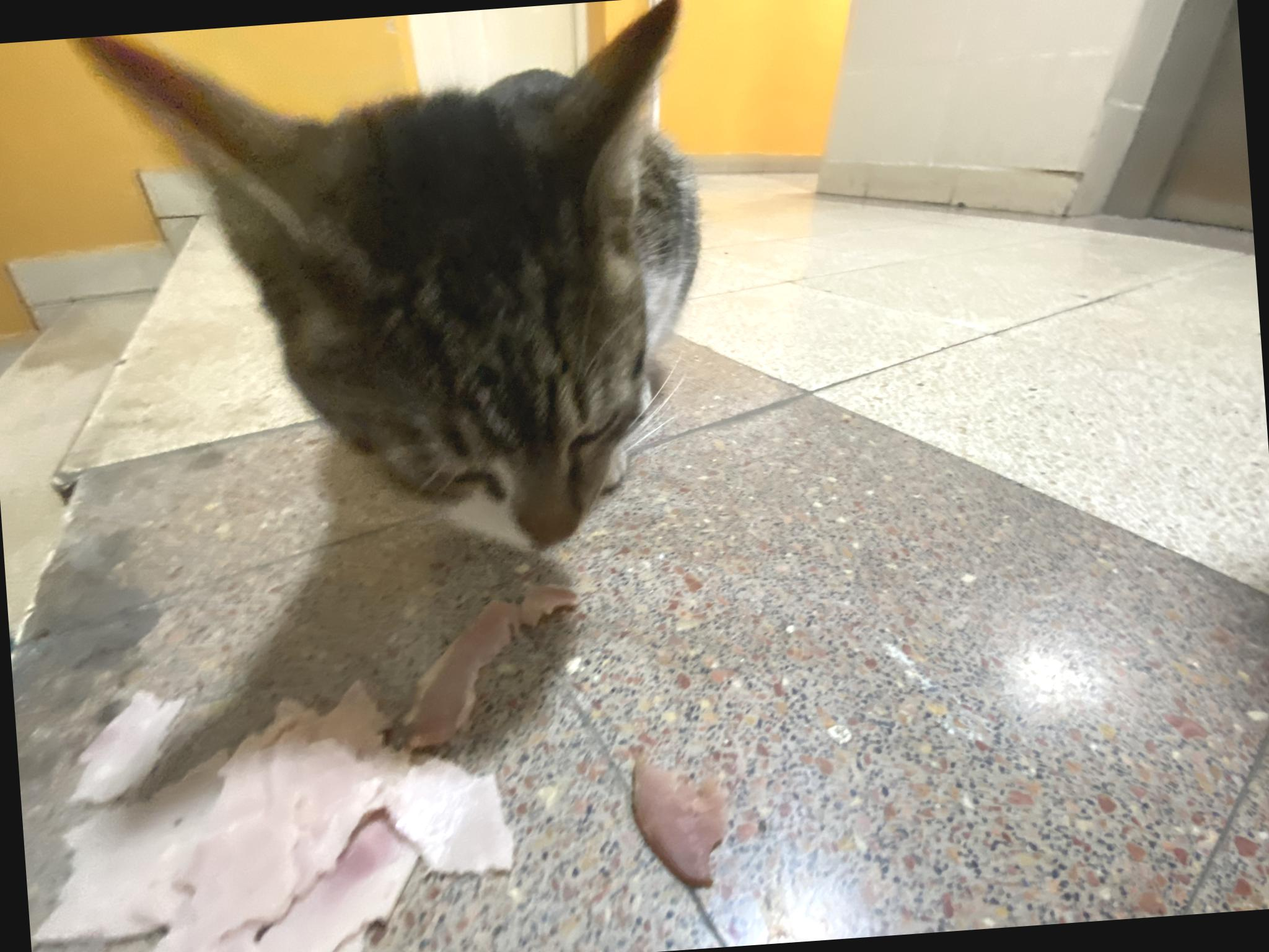macka: (74, 0, 722, 584)
